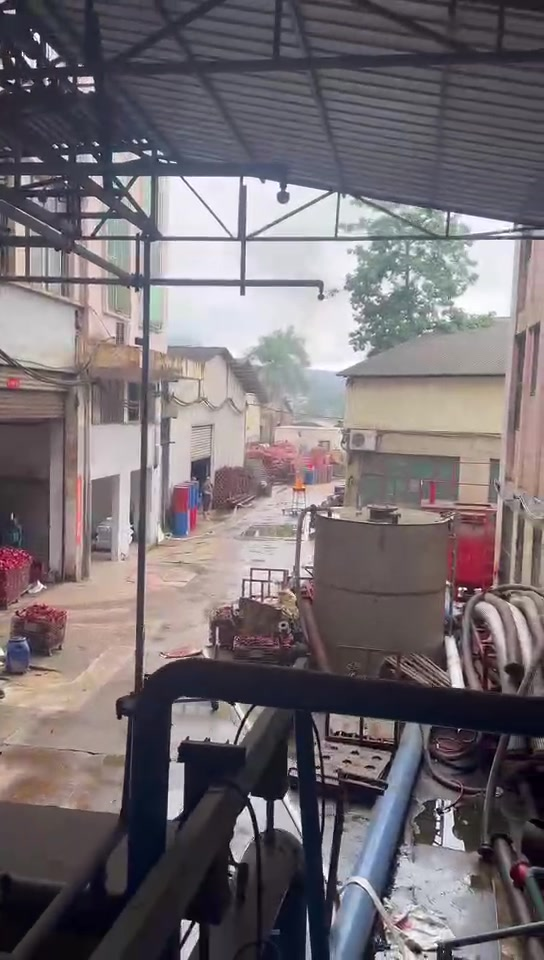fire: (294, 476, 305, 488)
